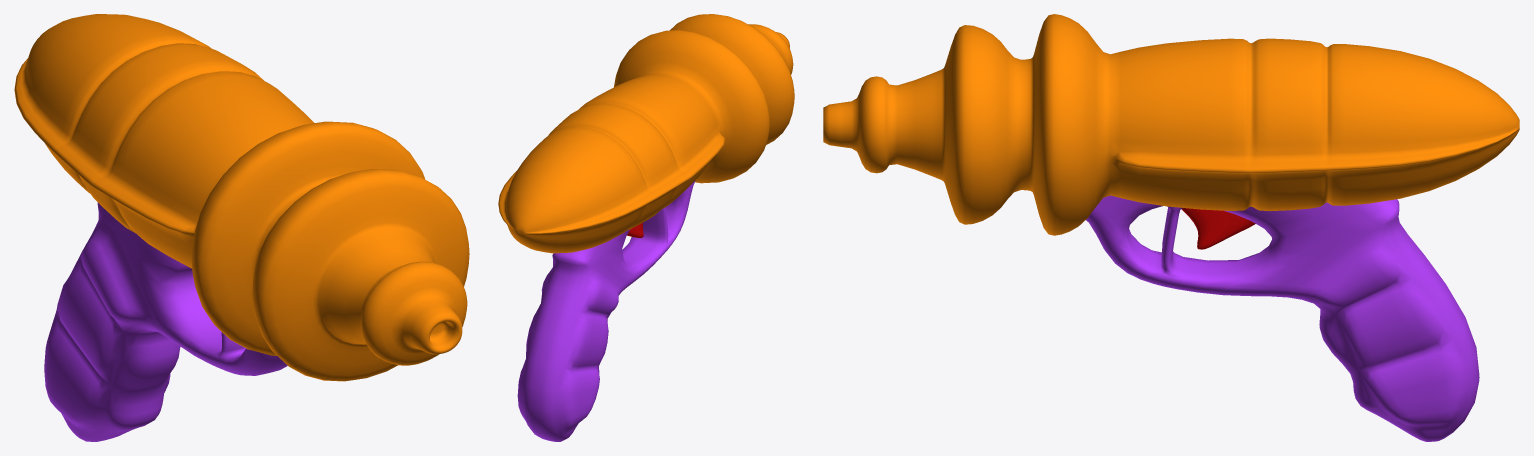
Rendered from Blaster.fbx.
3 views of the same model, side by side, from view 1: azimuth 30°, elevation 25°; view 2: azimuth 150°, elevation 25°; view 3: azimuth 270°, elevation 25° (orthographic). The views are drawn at different scales.
Parts seen in each view (by area): view 1: Sphere, Plane; view 2: Sphere, Plane; view 3: Sphere, Plane, Cube.
Boxes of the visible parts, x1,y1,x2,y2 form: Sphere: [14, 14, 469, 381]; Plane: [44, 202, 287, 441]; Sphere: [498, 14, 794, 253]; Plane: [517, 180, 695, 441]; Sphere: [823, 14, 1519, 235]; Plane: [1086, 195, 1479, 441]; Cube: [1181, 208, 1255, 249].
Size of the model in its own units: 53.09 by 101 by 156.
